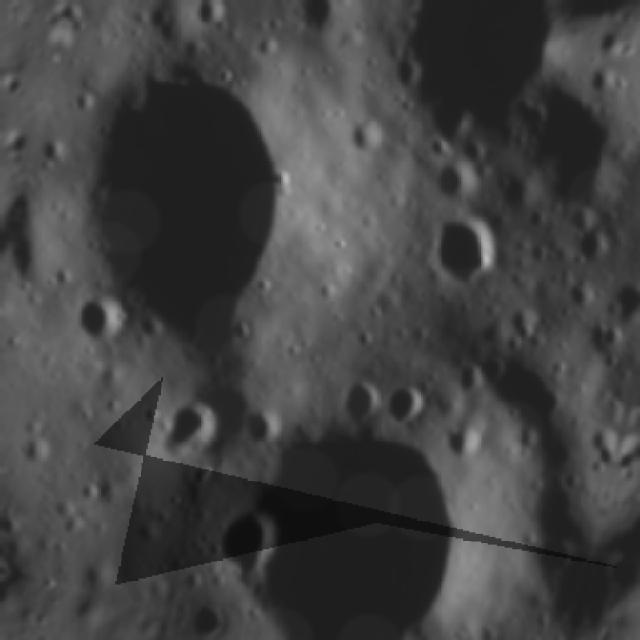crater: (167, 337, 527, 640), (35, 46, 334, 386), (372, 13, 554, 172), (189, 493, 286, 604), (412, 214, 510, 295), (55, 280, 139, 357), (320, 361, 389, 439), (151, 398, 224, 468), (374, 372, 438, 434), (521, 530, 581, 593), (427, 159, 485, 216), (285, 0, 347, 46), (434, 422, 486, 468), (565, 228, 617, 274), (603, 276, 640, 336), (559, 272, 604, 317), (185, 0, 237, 37)
